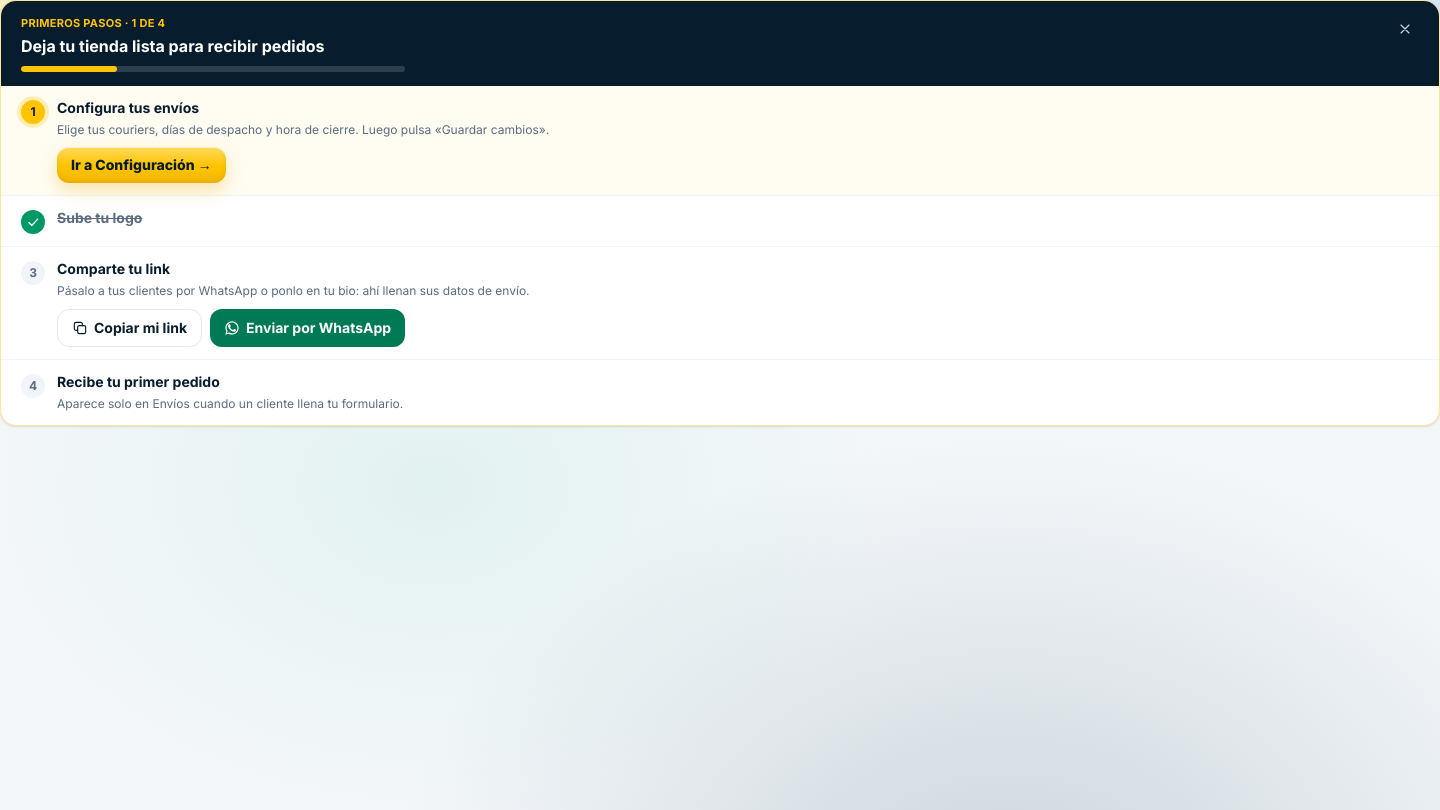
it: compartir el link marca el paso como hecho
Click the button "Copiar mi link".
click(130, 328)  # box [57,308,202,346]
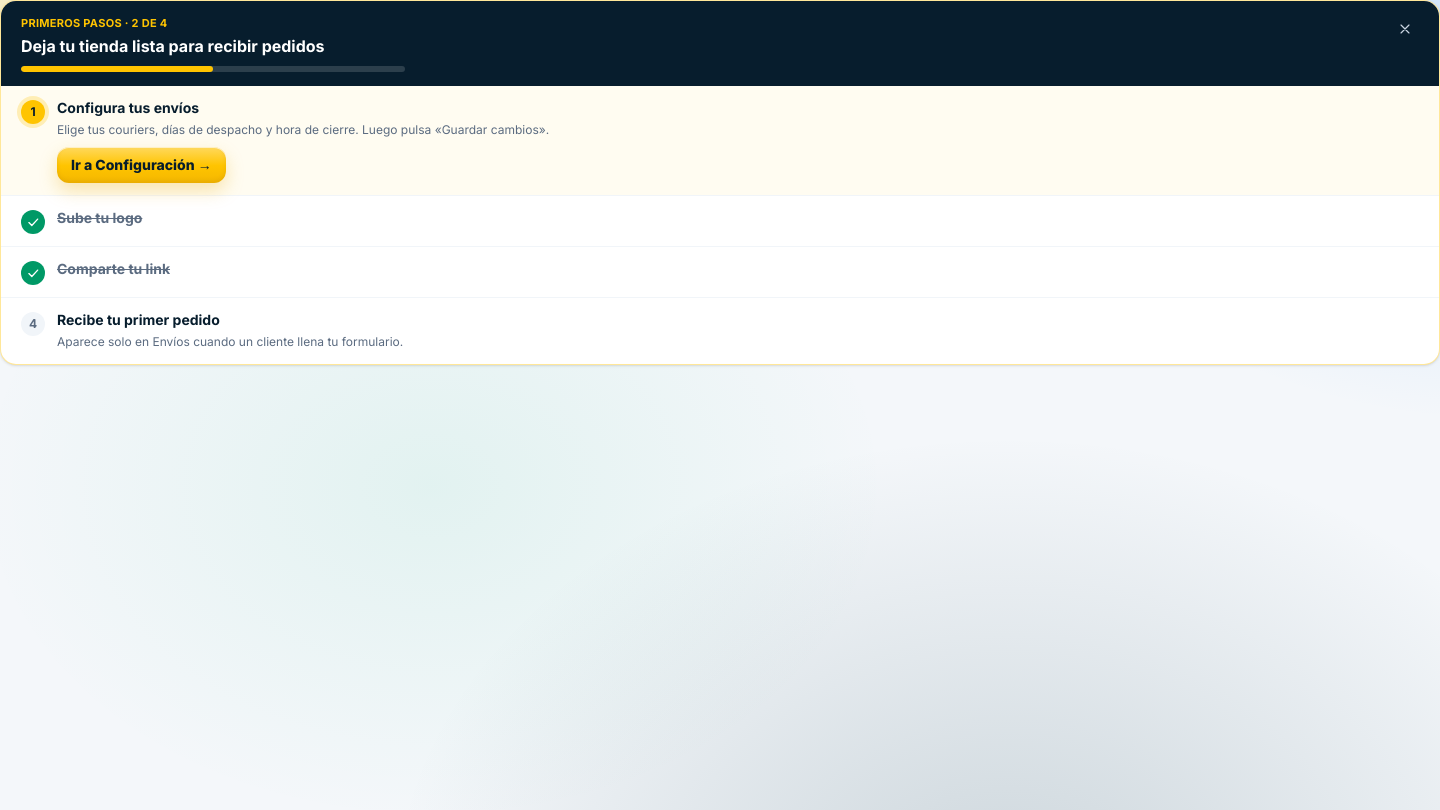
expect the text "Primeros pasos · 2 de 4" is shown: met, box [21,16,168,30]
